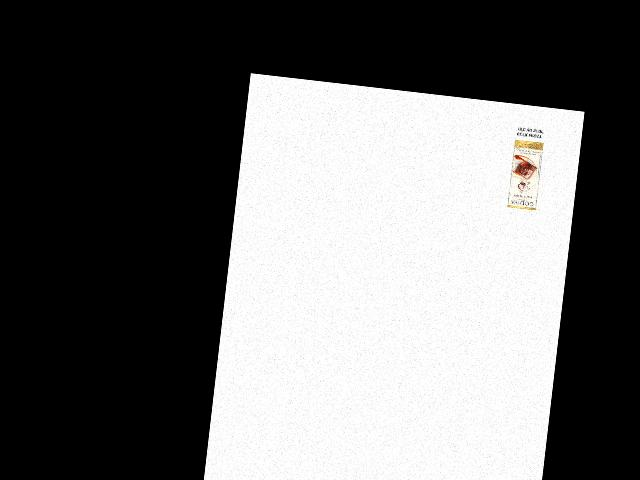chocolate: (504, 136, 543, 211)
